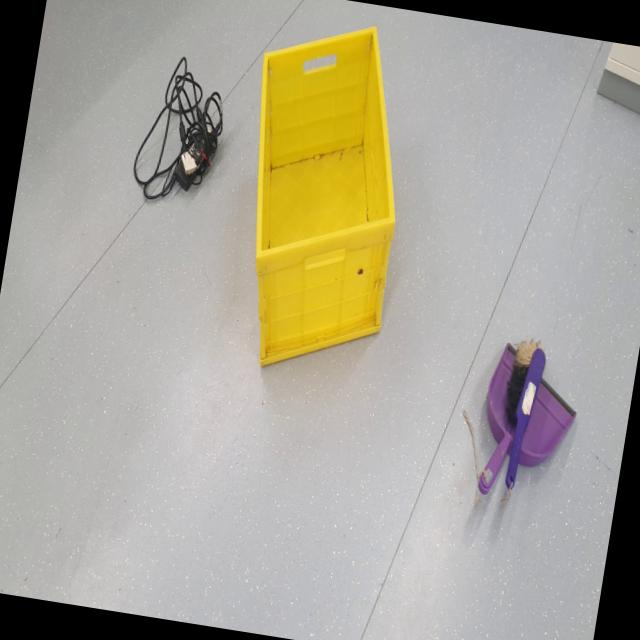box: (210, 0, 436, 405)
